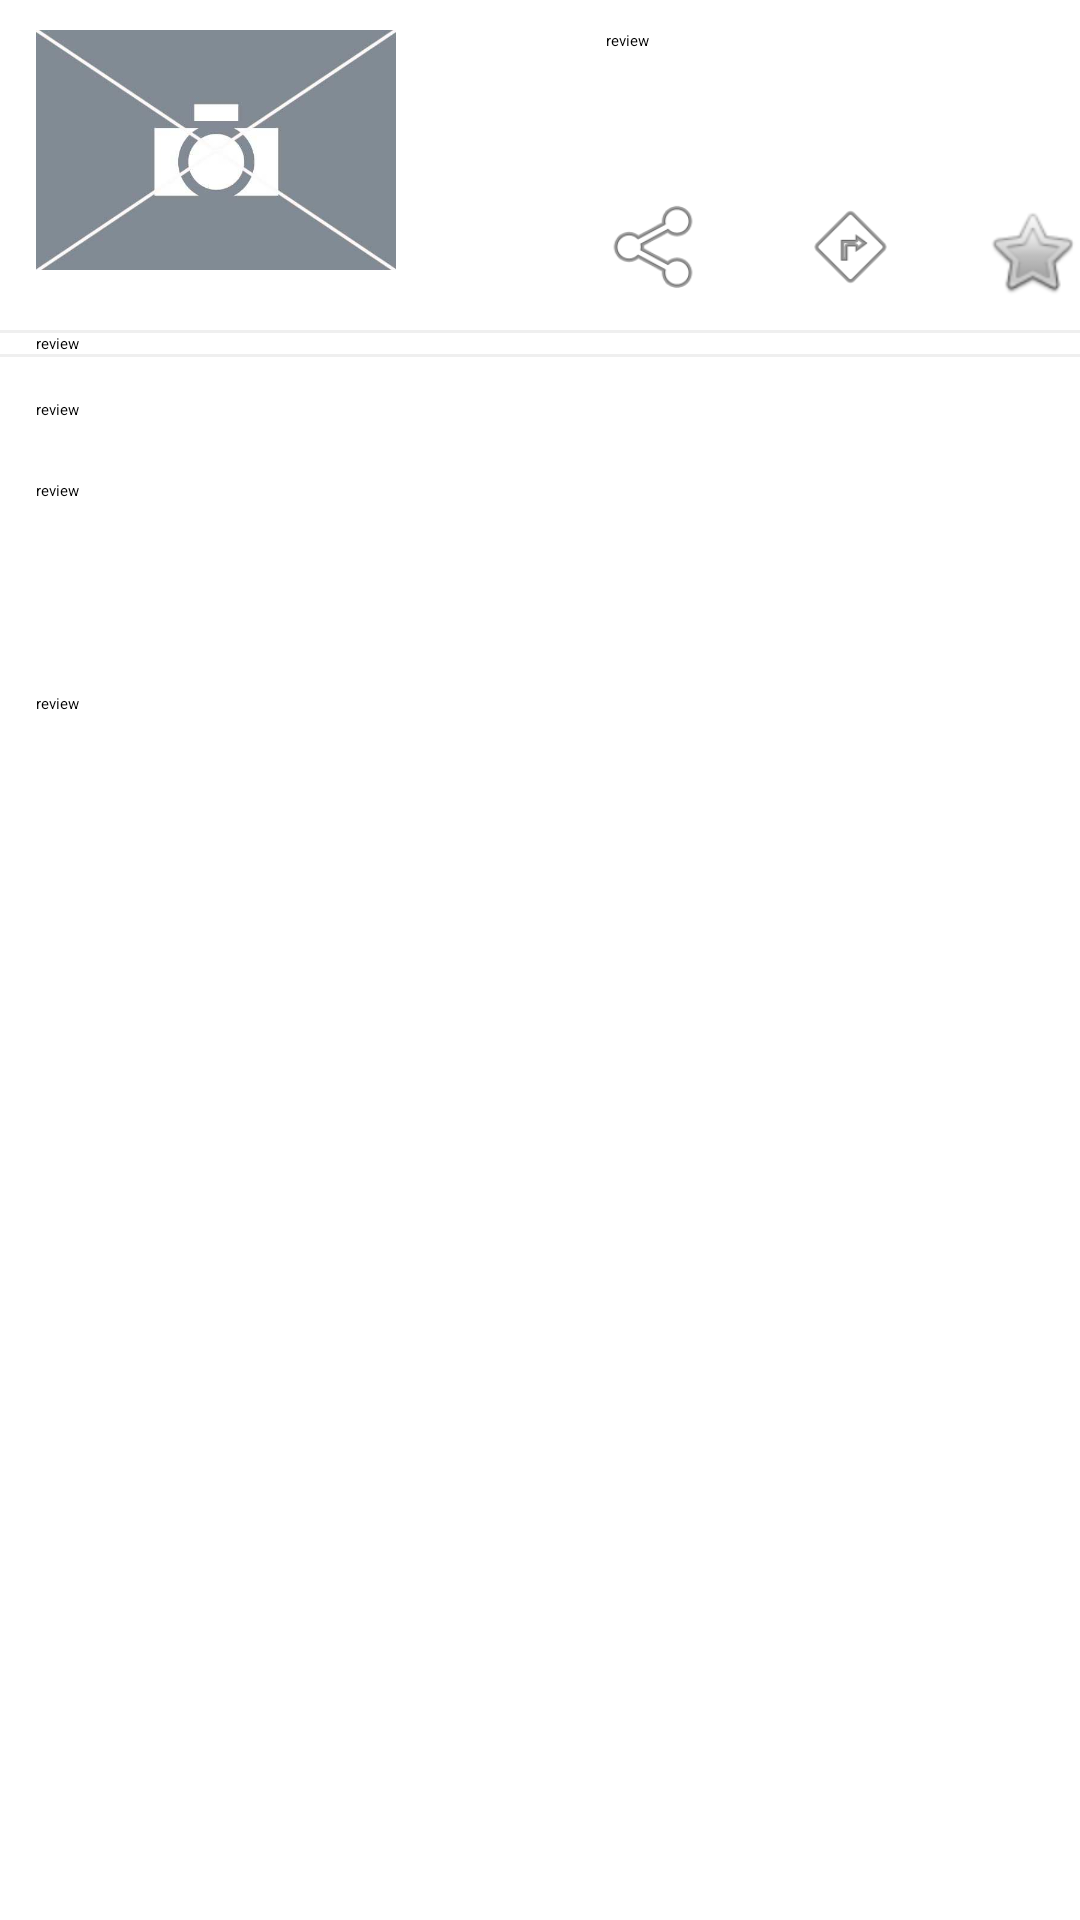

Where to tap for icons on this 1080 × 1920 app screen, as (x,y):
directions: (850,247)
fav: (1033,253)
noimage: (216,150)
share: (653,247)
